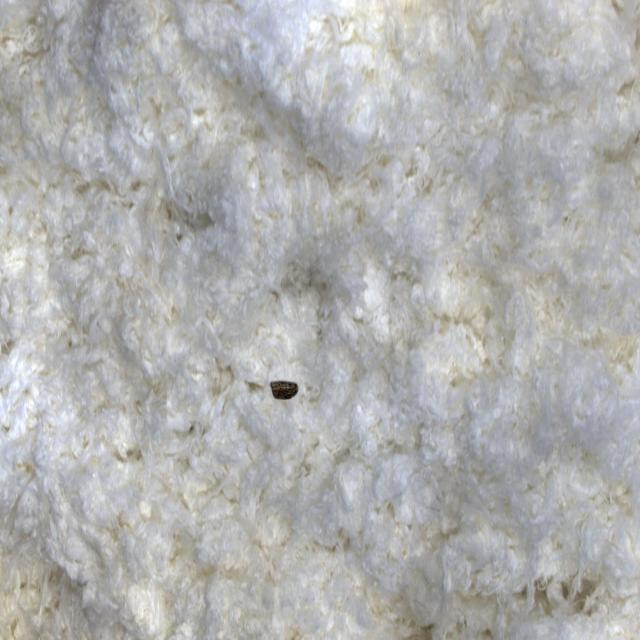dust: (249, 334, 323, 436)
